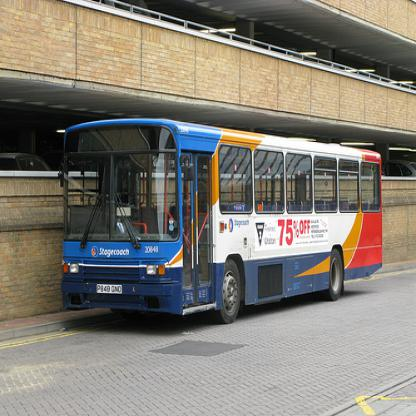bus: (61, 118, 384, 326)
